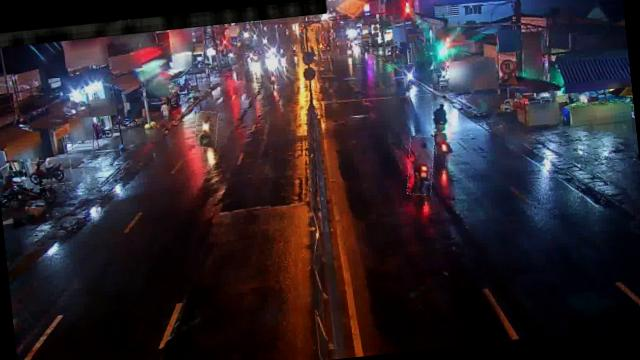Bike: (404, 134, 438, 197), (22, 156, 73, 188), (192, 110, 220, 149), (430, 100, 454, 134), (433, 122, 452, 156), (402, 64, 417, 90)
